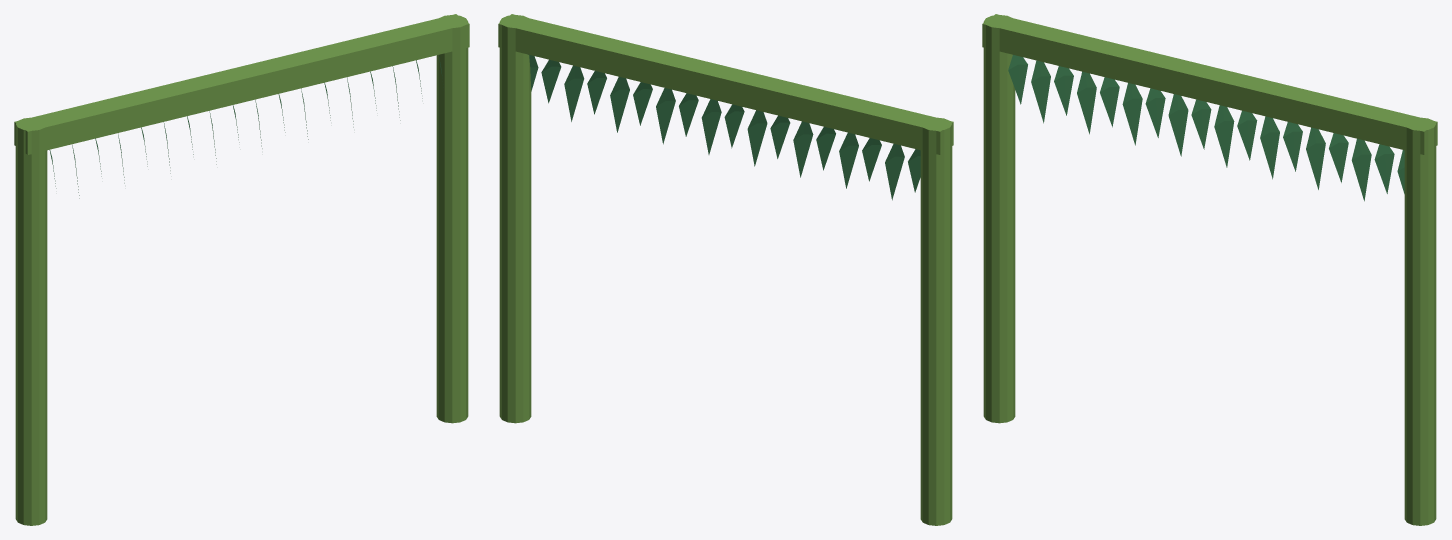
File: 087_mango_leaf_toranam.glb
3 views of the same model, side by side, from view 1: azimuth 30°, elevation 25°; view 2: azimuth 150°, elevation 25°; view 3: azimuth 330°, elevation 25° (orthographic).
Parts seen in each view (by area): view 1: Mango leaf toranam; view 2: Mango leaf toranam; view 3: Mango leaf toranam.
Part boxes in pixels (x1=…): Mango leaf toranam: x1=14, y1=14, x2=469, y2=525; Mango leaf toranam: x1=498, y1=14, x2=953, y2=525; Mango leaf toranam: x1=982, y1=14, x2=1437, y2=525.
Size of the model in its own units: 3.62 by 3.05 by 0.22.
